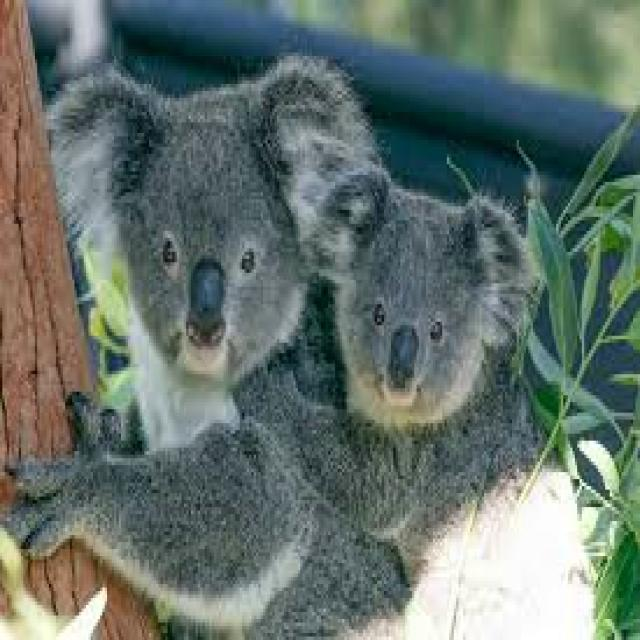koala: (7, 56, 405, 633), (240, 185, 538, 567)
